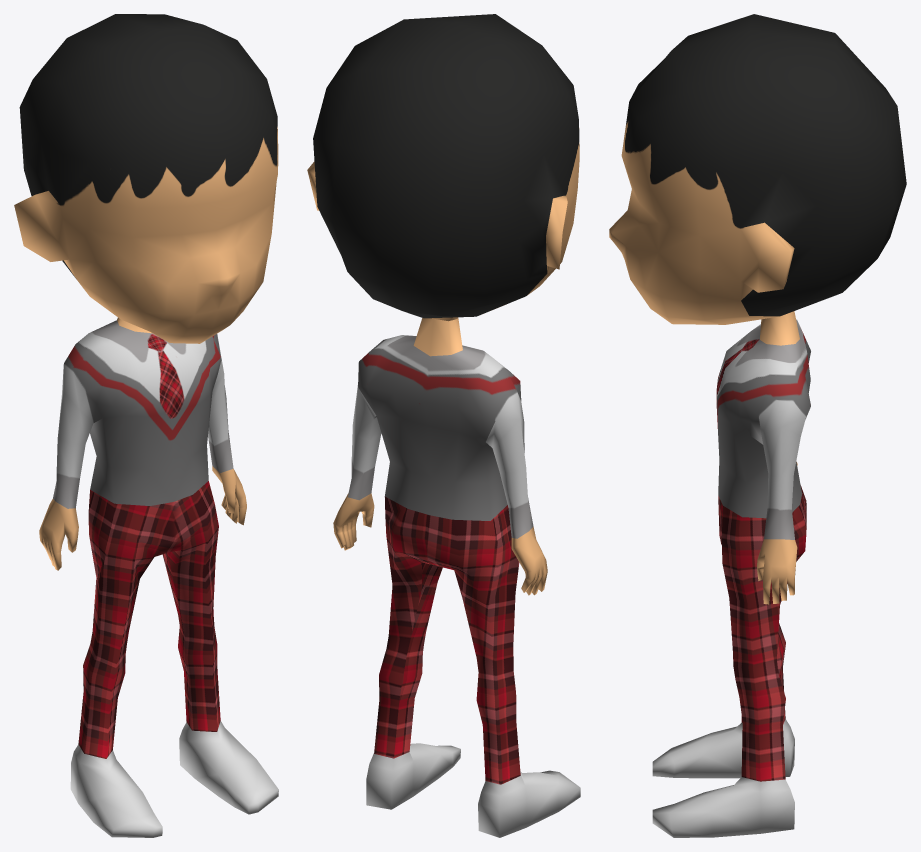
Rendered from high school_boy.FBX.
The picture shows the model from 3 angles, left to right: view 1: azimuth 30°, elevation 25°; view 2: azimuth 150°, elevation 25°; view 3: azimuth 270°, elevation 25°; orthographic projection. The views are drawn at different scales.
Parts seen in each view (by area): view 1: Plane012, leg008; view 2: Plane012, leg008; view 3: Plane012, leg008.
Boxes of the visible parts, <box> form: Plane012: <box>14,14,278,343</box>; leg008: <box>39,317,278,837</box>; Plane012: <box>307,14,579,318</box>; leg008: <box>333,317,580,837</box>; Plane012: <box>609,14,906,324</box>; leg008: <box>652,311,810,837</box>.
Bounding box in the file's own units: 27.87 × 81.58 × 28.68.
2 materials, 2 textured.
